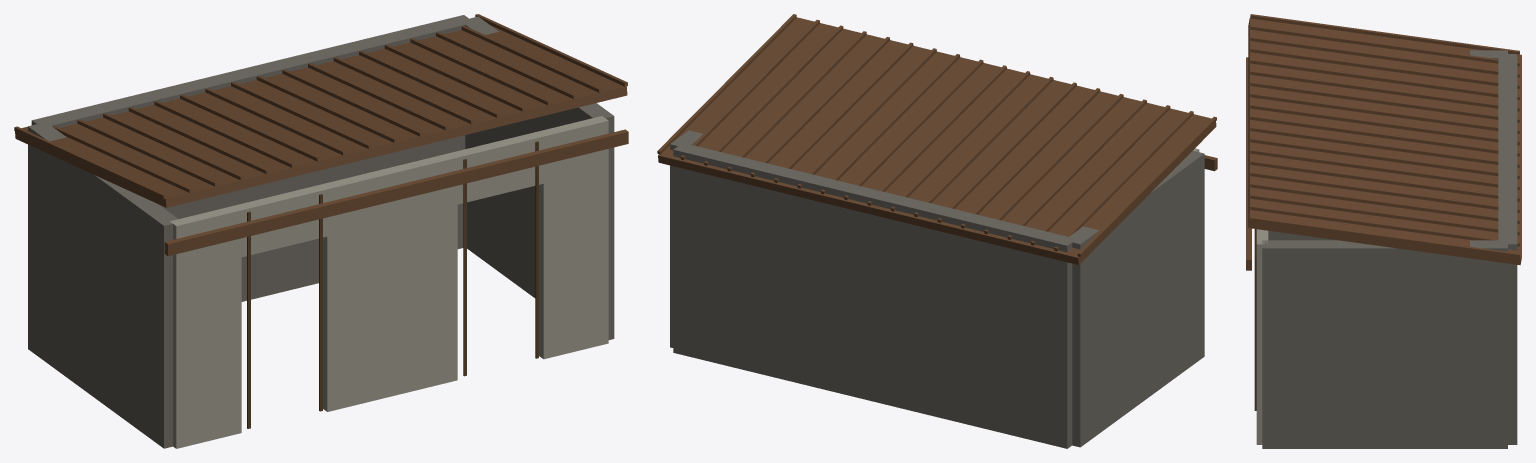
The model's file is bldg_toilets.glb.
3 renders of one model, left to right at view 1: azimuth 30°, elevation 25°; view 2: azimuth 150°, elevation 25°; view 3: azimuth 270°, elevation 25°, orthographic. The views are drawn at different scales.
Visible parts, largest first — view 1: WallPanel_Finished (×2), Bldg_Toilets, RoofDeck, RoofPanel_Sloped; view 2: Bldg_Toilets, RoofDeck, RoofPanel_Sloped; view 3: Bldg_Toilets, RoofDeck, RoofPanel_Sloped, WallPanel_Finished.
Part boxes in pixels (x1,y1,x2,y2): WallPanel_Finished (×2): [170, 116, 608, 448]; Bldg_Toilets: [28, 15, 614, 448]; RoofDeck: [15, 25, 627, 207]; RoofPanel_Sloped: [14, 14, 628, 256]; Bldg_Toilets: [670, 130, 1204, 448]; RoofDeck: [658, 17, 1216, 264]; RoofPanel_Sloped: [657, 14, 1217, 257]; Bldg_Toilets: [1262, 50, 1517, 448]; RoofDeck: [1248, 18, 1521, 265]; RoofPanel_Sloped: [1246, 14, 1519, 270]; WallPanel_Finished: [1254, 229, 1268, 444].
Size of the model in its own units: 5.67 by 3.03 by 3.24.
